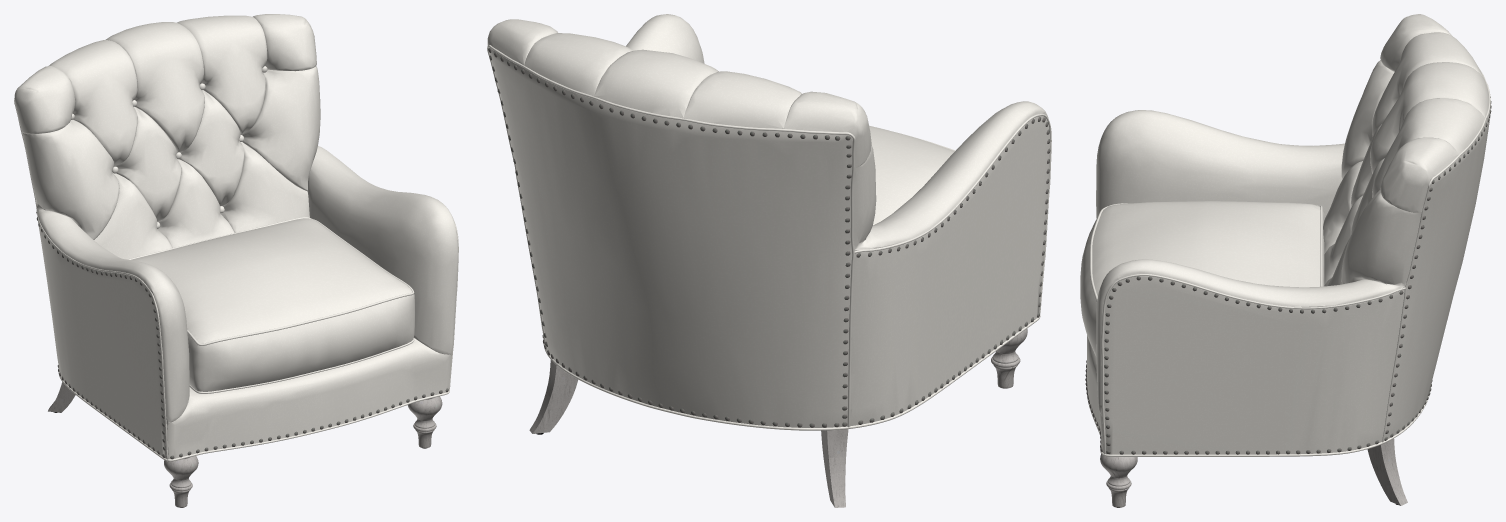
3 views of the same model, side by side, from view 1: azimuth 30°, elevation 25°; view 2: azimuth 150°, elevation 25°; view 3: azimuth 270°, elevation 25° (orthographic). The views are drawn at different scales.
Parts seen in each view (by area): view 1: 4_media\gen\BZO\t\a\l\tpiuhxqmtn4ghos_ugg__r2__.bzo_1, 5_media\gen\BZO\t\a\l\tpiuhxqmtn4ghos_ugg__r2__.bzo_2, 7_media\gen\BZO\t\a\l\tpiuhxqmtn4ghos_ugg__r2__.bzo_4, 2_media\gen\BZO\1\k\_\brjseot-vn1k-gfhfuw__r2__.bzo_2, 0_media\gen\BZO\1\g\x\4au1wes-aioflrpgl3a__r2__.bzo_1, 3_media\gen\BZO\1\k\_\brjseot-vn1k-gfhfuw__r2__.bzo_3, 1_media\gen\BZO\1\k\_\brjseot-vn1k-gfhfuw__r2__.bzo_1; view 2: 4_media\gen\BZO\t\a\l\tpiuhxqmtn4ghos_ugg__r2__.bzo_1, 5_media\gen\BZO\t\a\l\tpiuhxqmtn4ghos_ugg__r2__.bzo_2, 7_media\gen\BZO\t\a\l\tpiuhxqmtn4ghos_ugg__r2__.bzo_4, 1_media\gen\BZO\1\k\_\brjseot-vn1k-gfhfuw__r2__.bzo_1, 0_media\gen\BZO\1\g\x\4au1wes-aioflrpgl3a__r2__.bzo_1, 3_media\gen\BZO\1\k\_\brjseot-vn1k-gfhfuw__r2__.bzo_3; view 3: 4_media\gen\BZO\t\a\l\tpiuhxqmtn4ghos_ugg__r2__.bzo_1, 5_media\gen\BZO\t\a\l\tpiuhxqmtn4ghos_ugg__r2__.bzo_2, 7_media\gen\BZO\t\a\l\tpiuhxqmtn4ghos_ugg__r2__.bzo_4, 0_media\gen\BZO\1\g\x\4au1wes-aioflrpgl3a__r2__.bzo_1, 1_media\gen\BZO\1\k\_\brjseot-vn1k-gfhfuw__r2__.bzo_1, 3_media\gen\BZO\1\k\_\brjseot-vn1k-gfhfuw__r2__.bzo_3, 2_media\gen\BZO\1\k\_\brjseot-vn1k-gfhfuw__r2__.bzo_2.
Part boxes in pixels (x1=…): 4_media\gen\BZO\t\a\l\tpiuhxqmtn4ghos_ugg__r2__.bzo_1: x1=14, y1=14, x2=458, y2=459; 5_media\gen\BZO\t\a\l\tpiuhxqmtn4ghos_ugg__r2__.bzo_2: x1=131, y1=218, x2=414, y2=391; 7_media\gen\BZO\t\a\l\tpiuhxqmtn4ghos_ugg__r2__.bzo_4: x1=48, y1=382, x2=442, y2=507; 2_media\gen\BZO\1\k\_\brjseot-vn1k-gfhfuw__r2__.bzo_2: x1=127, y1=217, x2=414, y2=393; 0_media\gen\BZO\1\g\x\4au1wes-aioflrpgl3a__r2__.bzo_1: x1=36, y1=211, x2=448, y2=459; 3_media\gen\BZO\1\k\_\brjseot-vn1k-gfhfuw__r2__.bzo_3: x1=58, y1=372, x2=449, y2=461; 1_media\gen\BZO\1\k\_\brjseot-vn1k-gfhfuw__r2__.bzo_1: x1=14, y1=98, x2=458, y2=459; 4_media\gen\BZO\t\a\l\tpiuhxqmtn4ghos_ugg__r2__.bzo_1: x1=487, y1=14, x2=1050, y2=427; 5_media\gen\BZO\t\a\l\tpiuhxqmtn4ghos_ugg__r2__.bzo_2: x1=869, y1=125, x2=954, y2=225; 7_media\gen\BZO\t\a\l\tpiuhxqmtn4ghos_ugg__r2__.bzo_4: x1=529, y1=328, x2=1027, y2=507; 1_media\gen\BZO\1\k\_\brjseot-vn1k-gfhfuw__r2__.bzo_1: x1=487, y1=45, x2=1051, y2=427; 0_media\gen\BZO\1\g\x\4au1wes-aioflrpgl3a__r2__.bzo_1: x1=488, y1=48, x2=1050, y2=427; 3_media\gen\BZO\1\k\_\brjseot-vn1k-gfhfuw__r2__.bzo_3: x1=543, y1=315, x2=1040, y2=430; 4_media\gen\BZO\t\a\l\tpiuhxqmtn4ghos_ugg__r2__.bzo_1: x1=1087, y1=14, x2=1490, y2=454; 5_media\gen\BZO\t\a\l\tpiuhxqmtn4ghos_ugg__r2__.bzo_2: x1=1080, y1=201, x2=1324, y2=356; 7_media\gen\BZO\t\a\l\tpiuhxqmtn4ghos_ugg__r2__.bzo_4: x1=1100, y1=438, x2=1407, y2=507; 0_media\gen\BZO\1\g\x\4au1wes-aioflrpgl3a__r2__.bzo_1: x1=1085, y1=97, x2=1491, y2=454; 1_media\gen\BZO\1\k\_\brjseot-vn1k-gfhfuw__r2__.bzo_1: x1=1101, y1=71, x2=1490, y2=454; 3_media\gen\BZO\1\k\_\brjseot-vn1k-gfhfuw__r2__.bzo_3: x1=1086, y1=386, x2=1430, y2=456; 2_media\gen\BZO\1\k\_\brjseot-vn1k-gfhfuw__r2__.bzo_2: x1=1090, y1=203, x2=1322, y2=301.
Size of the model in its own units: 0.8511 by 0.9017 by 0.9144.
4 materials, 4 textured.
